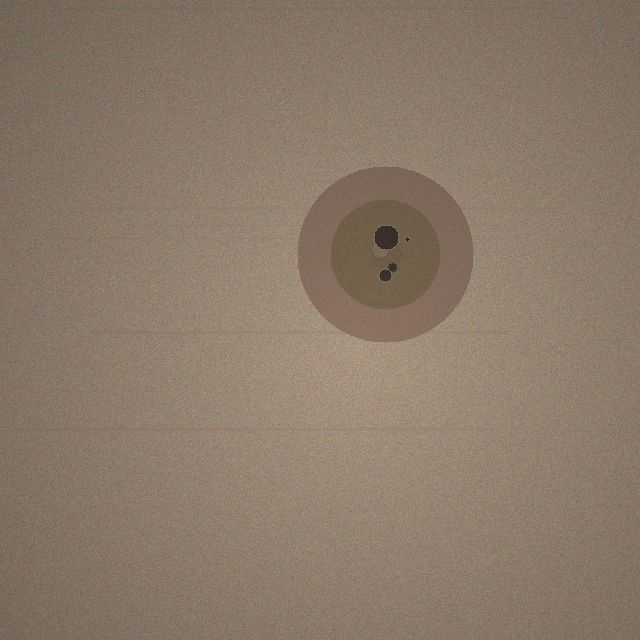shrinkage: (297, 166, 473, 342)
